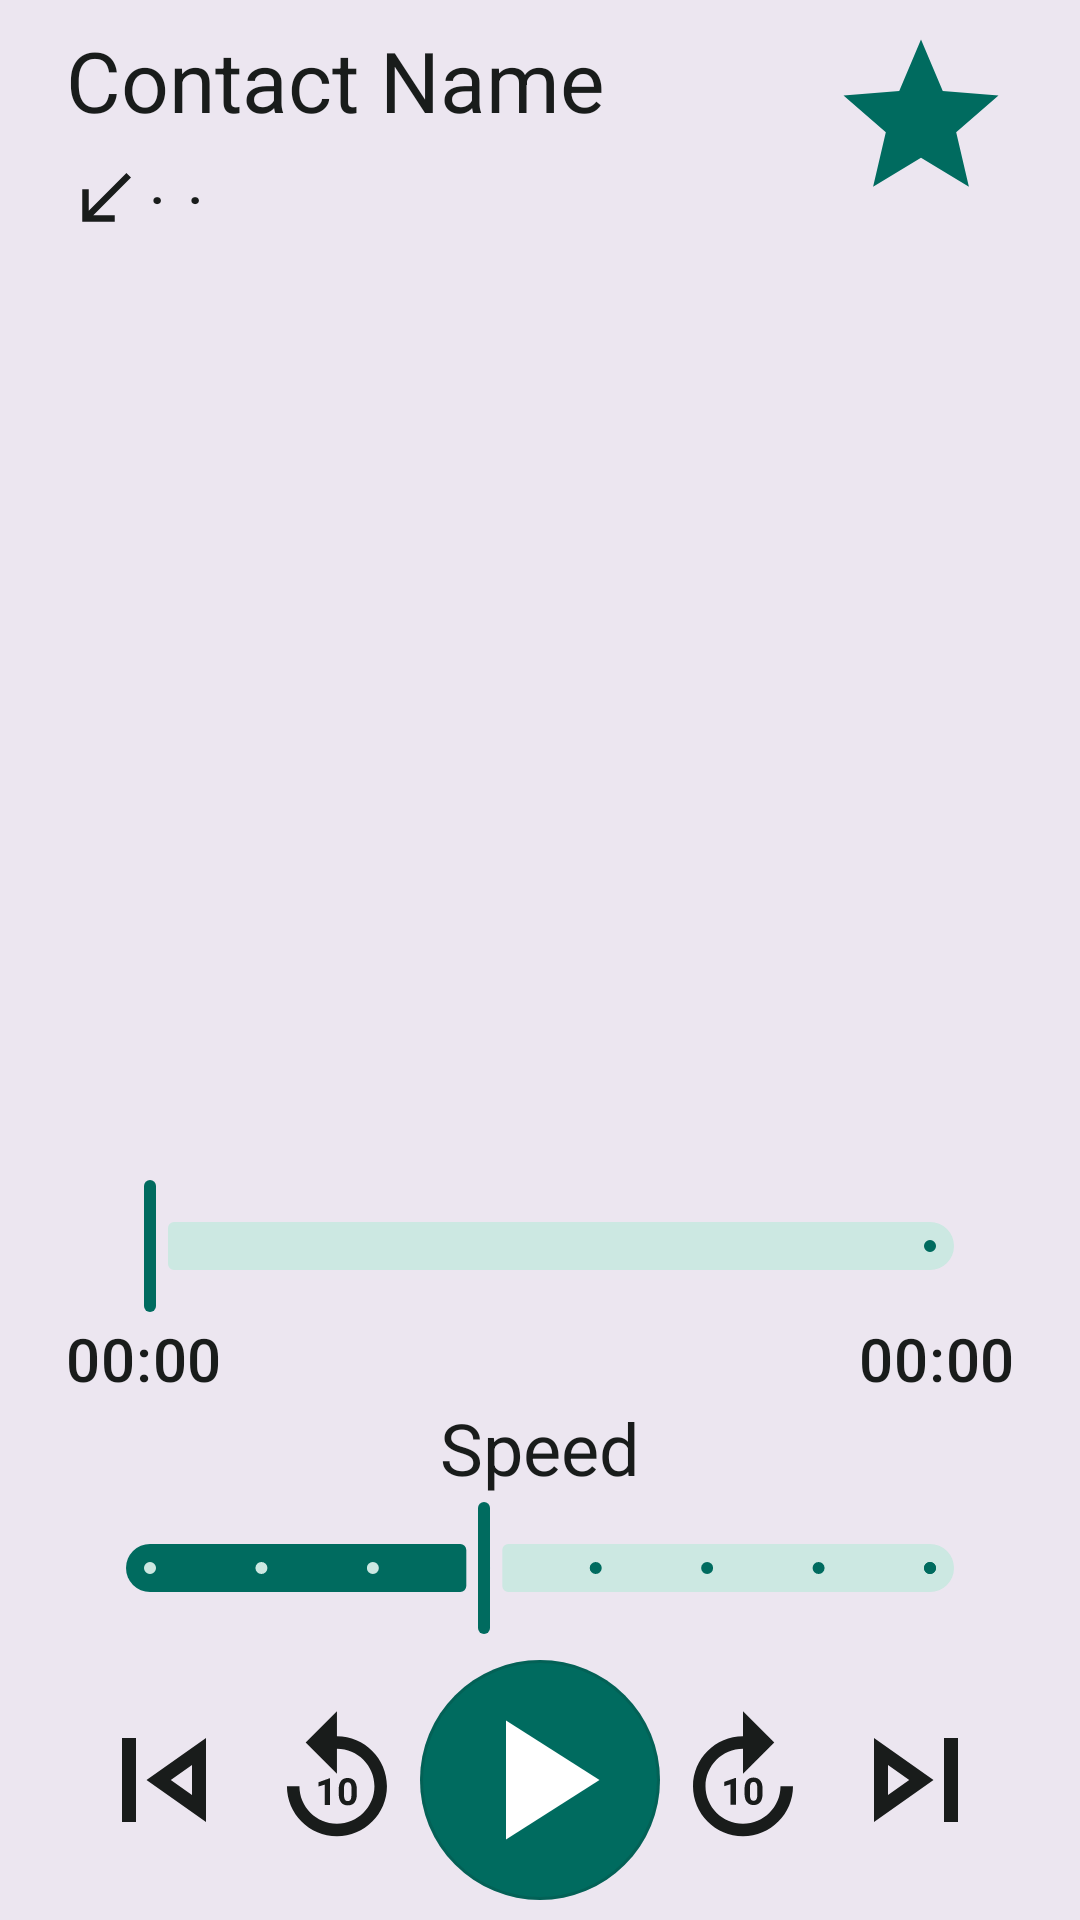

Locate icon controls on the screen. Image size 1080x1920, boxes as box=[x1, y1, x2, y2].
Direction: box=[82, 173, 131, 222]
Favourites: box=[843, 40, 999, 187]
forward: box=[693, 1711, 793, 1837]
next: box=[874, 1738, 958, 1822]
play: box=[420, 1660, 660, 1900]
previous: box=[287, 1711, 387, 1837], box=[122, 1738, 206, 1822]
